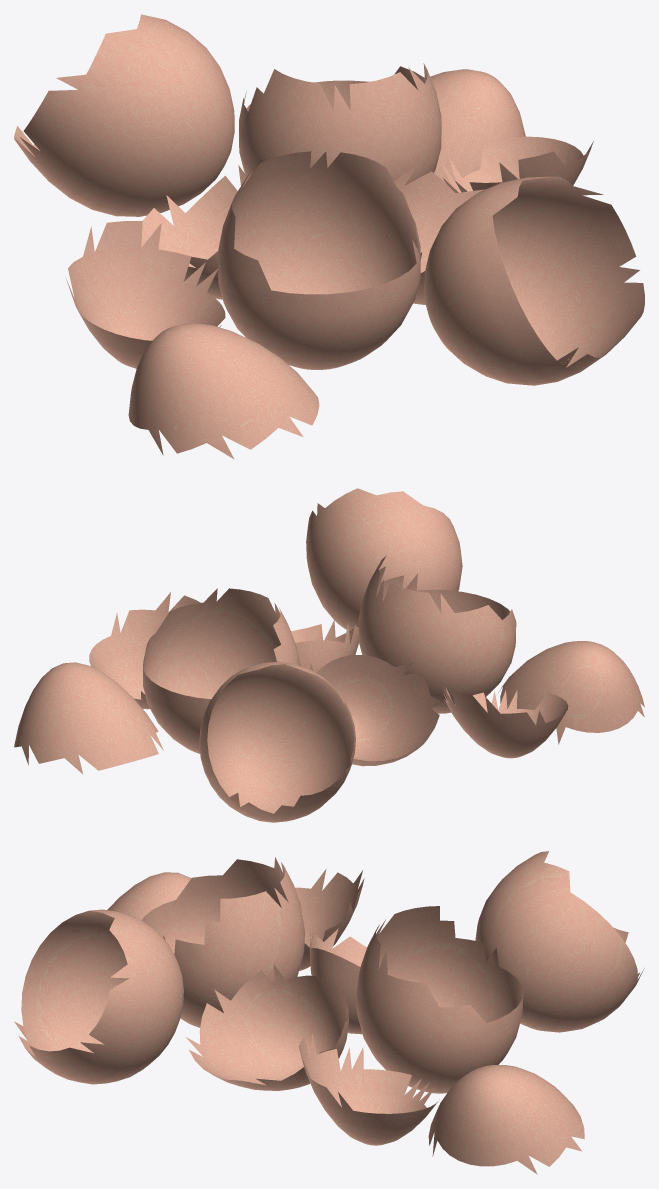
Rendered from CascaraHuevo.fbx.
The picture shows the model from 3 angles, top to bottom: view 1: azimuth 30°, elevation 25°; view 2: azimuth 150°, elevation 25°; view 3: azimuth 270°, elevation 25°; orthographic projection. The views are drawn at different scales.
Visible parts, largest first — view 1: egg_crate.002; view 2: egg_crate.002; view 3: egg_crate.002.
Part boxes in pixels (x1,y1,x2,y2): egg_crate.002: [14, 14, 644, 459]; egg_crate.002: [14, 488, 644, 822]; egg_crate.002: [14, 851, 644, 1174].
Size of the model in its own units: 1057 by 346 by 1170.
